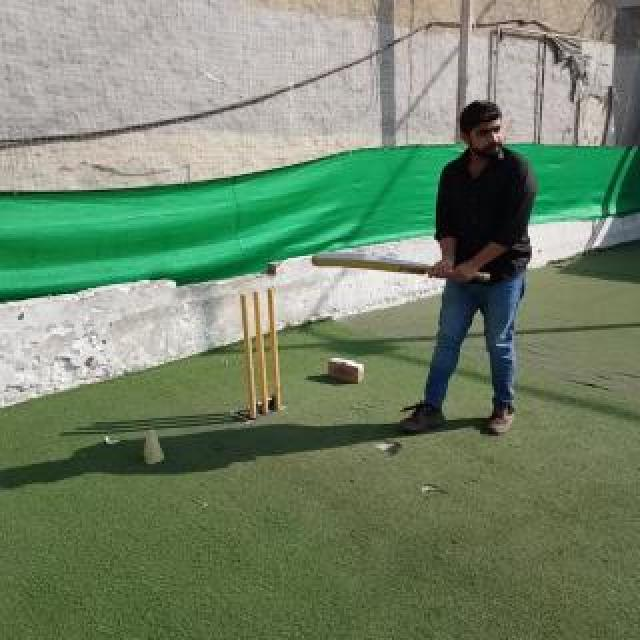bat: (311, 252, 491, 280)
